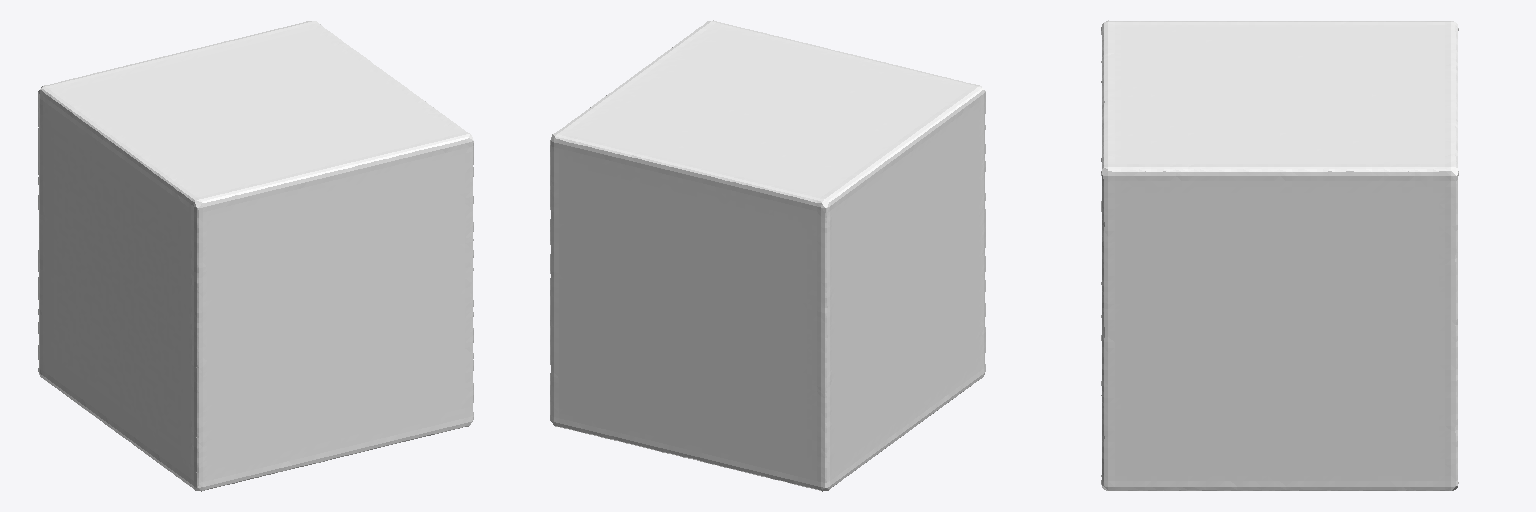
URDF robot description (custom):
<?xml version="1.0"?>
<robot name="custom">
  <material name="Blanc">
    <color rgba="1.0 1.0 1.0 1.0"/>
  </material>
  <link name="base_link">
    <visual>
      <origin xyz="0 0 0" rpy="0 0 0"/>
      <geometry>
        <mesh filename="handoff_cube_large.obj" scale="1 1 1"/>
      </geometry>
      <material name="Blanc"/>
    </visual>
    <collision>
      <origin xyz="0 0 0" rpy="0 0 0"/>
      <geometry>
	 	     <mesh filename="handoff_cube_large.obj" scale="1 1 1"/>
      </geometry>
    </collision>
    <contact>
      <lateral_friction value="5.0"/>
      <rolling_friction value="0.0001"/>
      <inertia_scaling value="3.0"/>
    </contact>
    <inertial>
      <origin rpy="0 0 0" xyz="0 0 0"/>
       <mass value="0.05"/>
       <inertia ixx="1" ixy="0" ixz="0" iyy="1" iyz="0" izz="1"/>
    </inertial>
  </link>

</robot>

--- Render facts (derived) ---
Views: 3 orthographic renders of the robot side by side, from view 1: azimuth 30°, elevation 25°; view 2: azimuth 150°, elevation 25°; view 3: azimuth 270°, elevation 25°.
Model custom with 1 links and 0 joints (none), rooted at base_link, posed every joint at zero.
Links seen in each view (by area): view 1: base_link; view 2: base_link; view 3: base_link.
Boxes of the visible links, bbox=[...] form: base_link: bbox=[38, 21, 473, 491]; base_link: bbox=[550, 20, 985, 491]; base_link: bbox=[1101, 20, 1458, 490].
Size in the robot's own frame: 0.1199 by 0.1199 by 0.1199 metres.
1 mesh visuals loaded from 1 distinct referenced files (1 OBJ).
